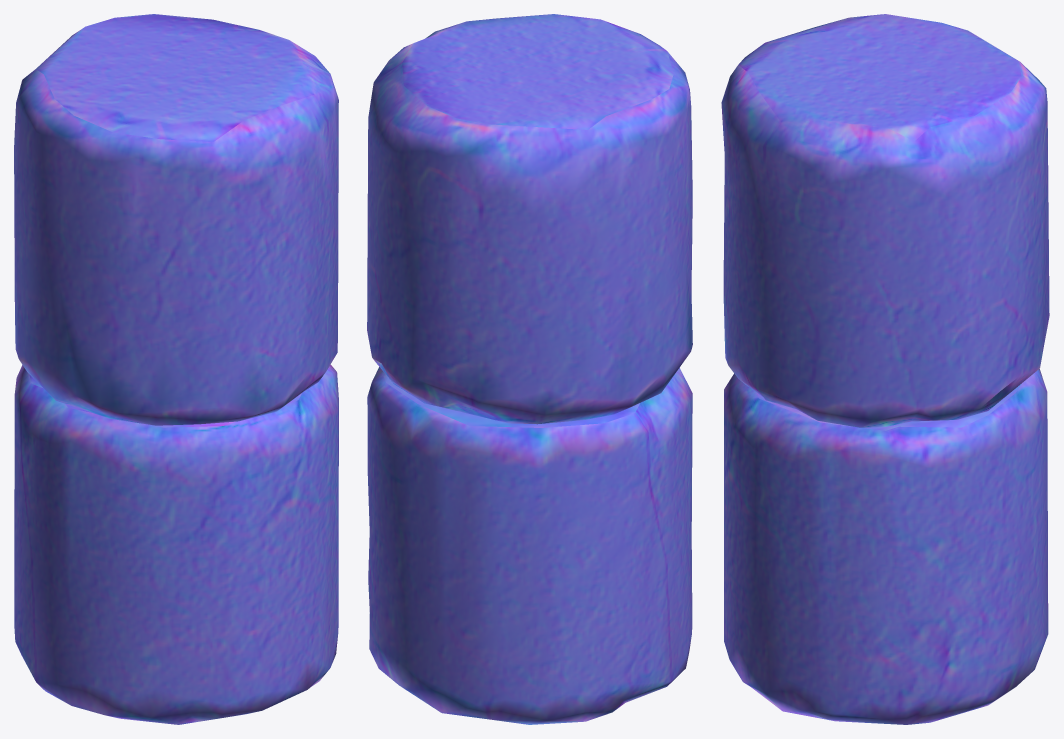
File: pillar_middle_01a.fbx
3 renders of one model, left to right at view 1: azimuth 30°, elevation 25°; view 2: azimuth 150°, elevation 25°; view 3: azimuth 270°, elevation 25°, orthographic.
Parts seen in each view (by area): view 1: pillar_middle_01a_LOD0; view 2: pillar_middle_01a_LOD0; view 3: pillar_middle_01a_LOD0.
Part boxes in pixels (x1,y1,x2,y2): pillar_middle_01a_LOD0: [14, 14, 338, 724]; pillar_middle_01a_LOD0: [367, 14, 692, 724]; pillar_middle_01a_LOD0: [721, 14, 1049, 724].
Bounding box in the file's own units: 31.65 × 32.01 × 64.
1 material, 1 textured.
